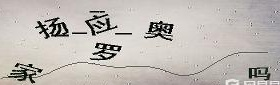chinese: (81, 12, 116, 38), (90, 40, 126, 64), (143, 17, 176, 43), (7, 62, 42, 85), (34, 17, 70, 39), (245, 62, 275, 83)
